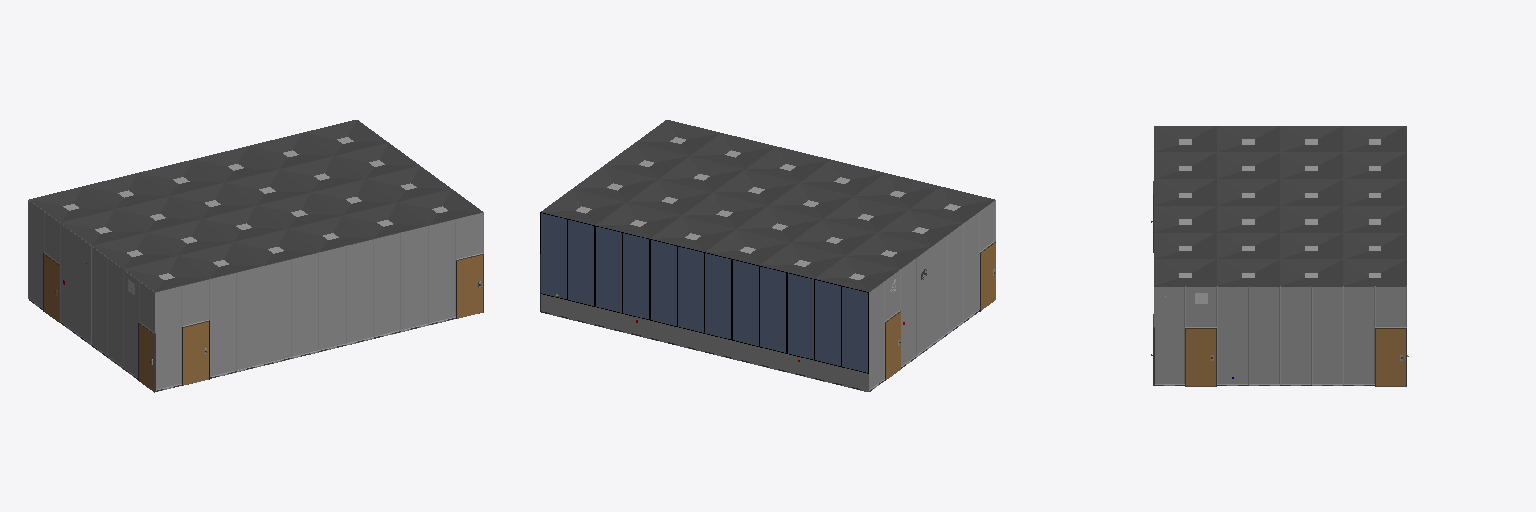
Rendered from office.obj.
3 views of the same model, side by side, from view 1: azimuth 30°, elevation 25°; view 2: azimuth 150°, elevation 25°; view 3: azimuth 270°, elevation 25° (orthographic).
Parts seen in each view (by area): view 1: window_Plane.036; view 2: window_Plane.036; view 3: window_Plane.036.
Part boxes in pixels (bbox=[...]): window_Plane.036: bbox=[28, 120, 483, 392]; window_Plane.036: bbox=[540, 120, 995, 391]; window_Plane.036: bbox=[1151, 126, 1408, 386].
Size of the model in its own units: 12.14 by 3.5 by 8.13.